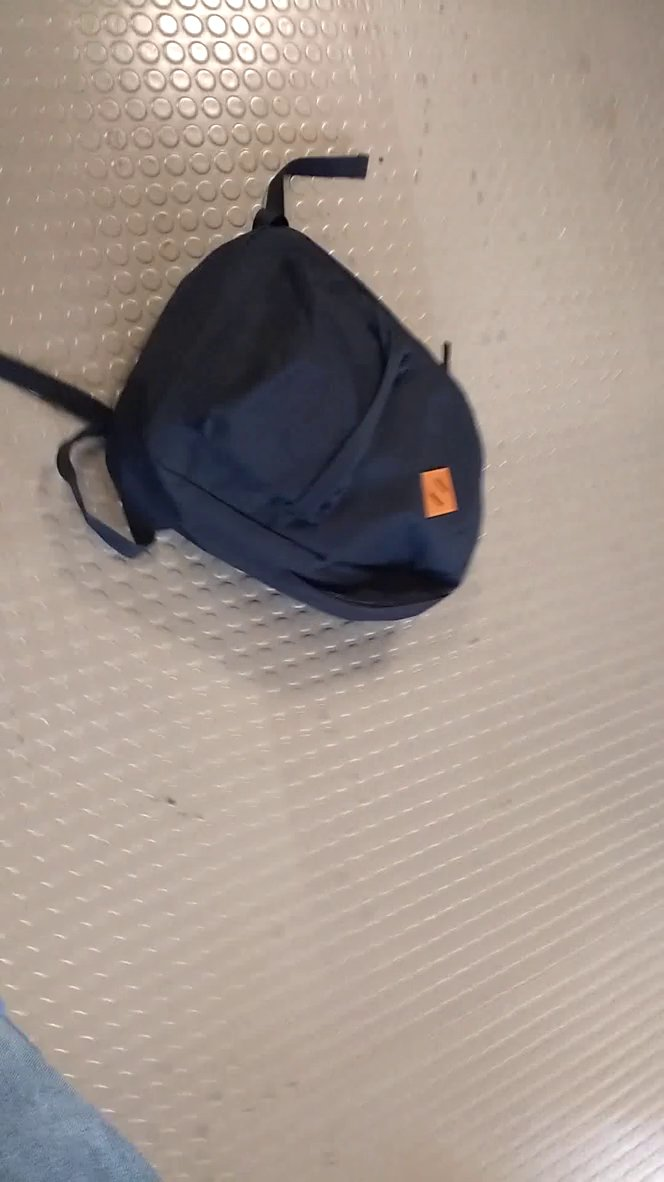bag: (2, 124, 495, 630)
